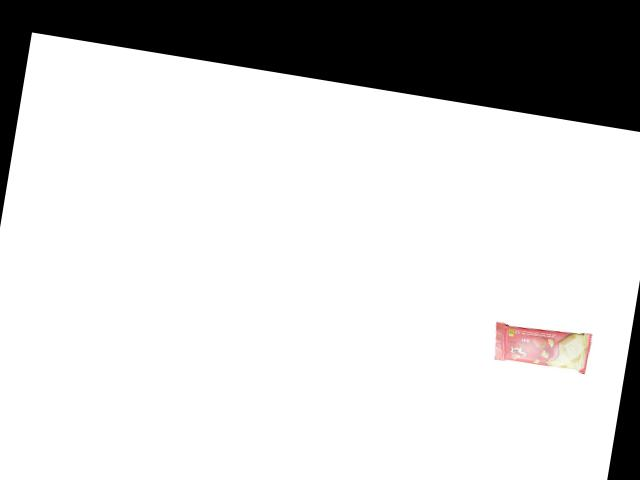chocolate: (483, 311, 593, 377)
